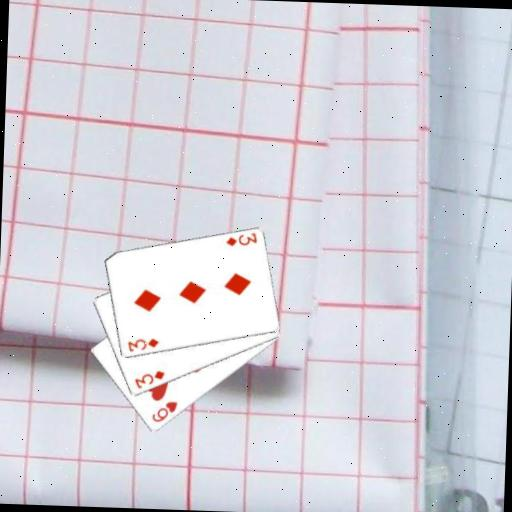3D: (130, 366, 166, 391), (124, 334, 160, 354), (222, 229, 258, 249)
6H: (148, 398, 179, 425)
